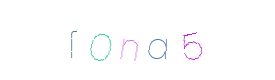0: (81, 0, 161, 80)
5: (143, 0, 223, 80)
A: (109, 0, 189, 80)
F: (78, 0, 158, 80)
N: (97, 0, 177, 80)
